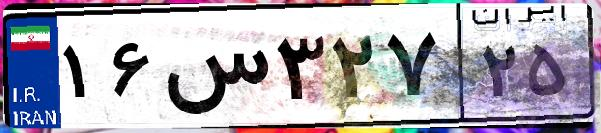1: (57, 26, 110, 100)
2: (330, 28, 385, 110), (475, 38, 525, 113)
3: (270, 28, 330, 110)
5: (525, 38, 570, 115)
6: (110, 28, 158, 98)
7: (385, 28, 445, 110)
س: (158, 20, 270, 120)
